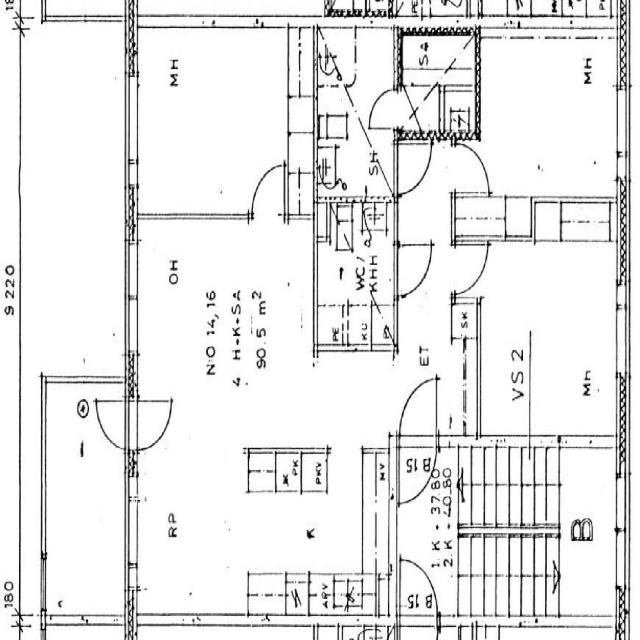door: (128, 394, 175, 454), (398, 374, 439, 439), (398, 444, 437, 509), (394, 134, 433, 198), (394, 237, 434, 299), (248, 159, 288, 221), (452, 235, 490, 296), (398, 556, 437, 614), (453, 140, 491, 199), (93, 394, 130, 452), (366, 88, 401, 133)
window: (122, 239, 144, 366), (122, 69, 144, 181), (611, 274, 632, 386), (123, 476, 144, 579), (612, 84, 631, 169), (36, 551, 50, 614)
zone: (132, 26, 288, 222), (223, 450, 381, 606), (477, 36, 623, 203), (41, 380, 130, 629), (314, 25, 396, 202), (557, 443, 622, 622), (396, 33, 477, 130), (314, 255, 392, 350), (398, 553, 437, 619), (309, 571, 334, 615)
